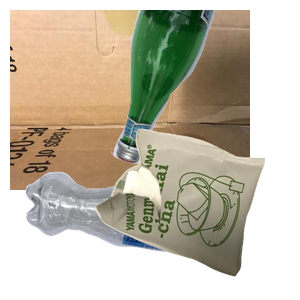cardboard: (10, 10, 250, 190)
glass: (109, 10, 300, 167)
plastic: (23, 169, 243, 300)
trash: (93, 126, 300, 300)
